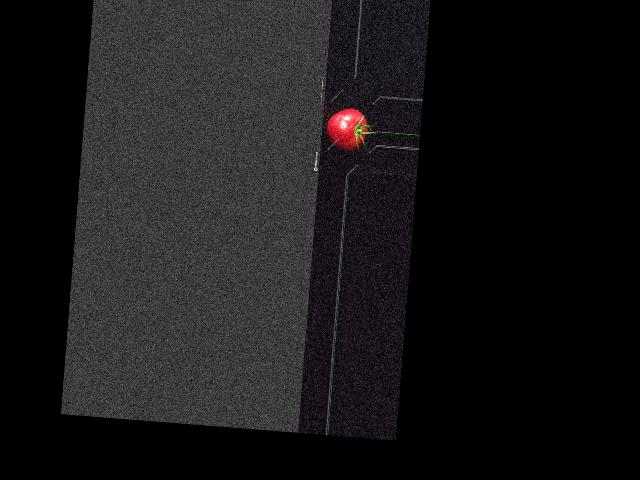tomato: (325, 106, 368, 152)
